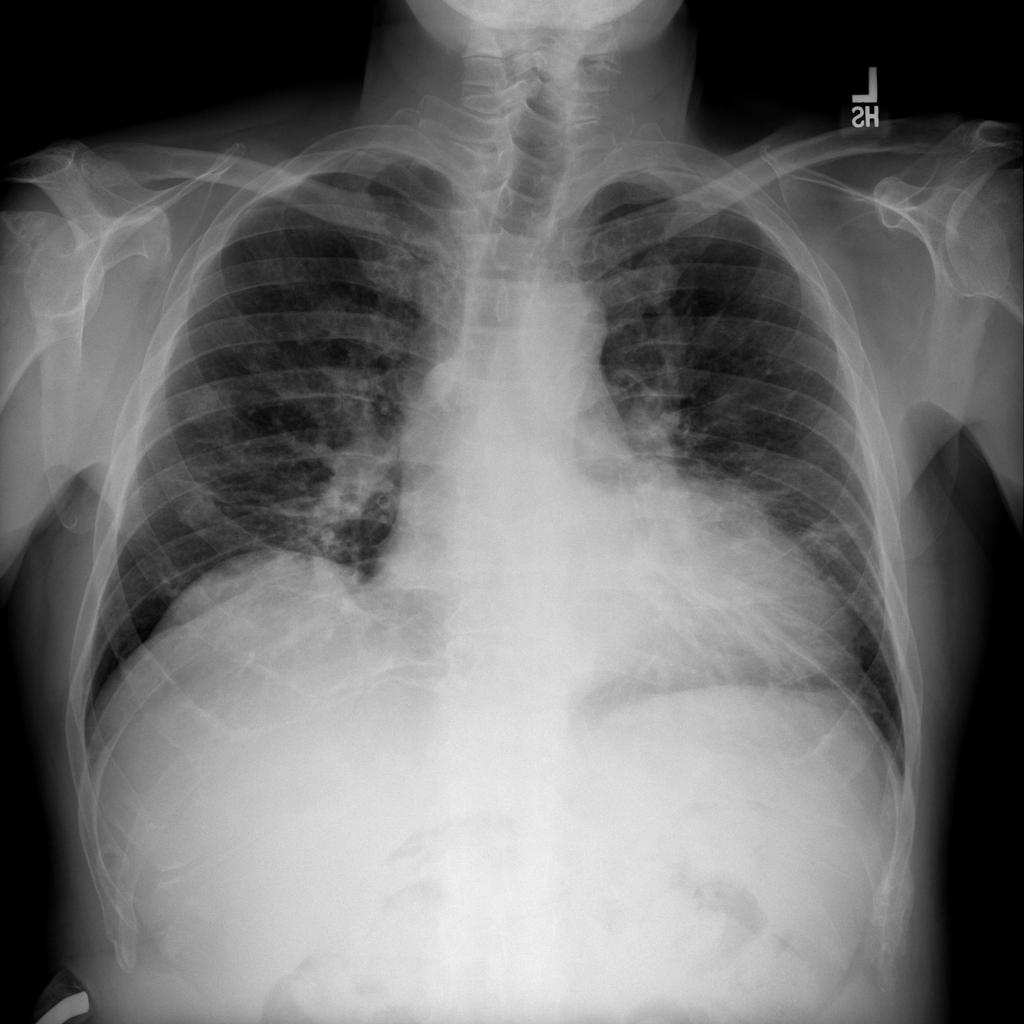Cardiomegaly: (349, 347, 874, 734)
